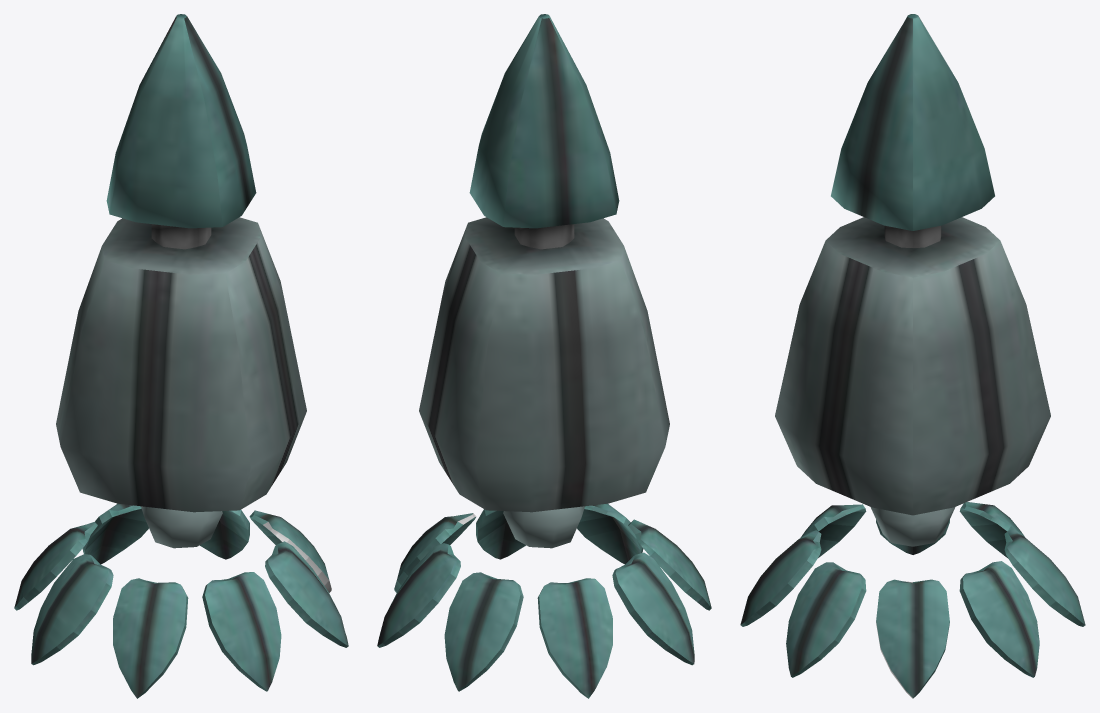
File: tempRocket.FBX
The picture shows the model from 3 angles, left to right: view 1: azimuth 30°, elevation 25°; view 2: azimuth 150°, elevation 25°; view 3: azimuth 270°, elevation 25°; orthographic projection.
Parts seen in each view (by area): view 1: Box005; view 2: Box005; view 3: Box005.
Part boxes in pixels (x1,y1,x2,y2): Box005: (14,14,348,698); Box005: (377,14,711,698); Box005: (740,14,1085,698).
Size of the model in its own units: 8.18 by 15.98 by 8.18.
1 material, 1 textured.
